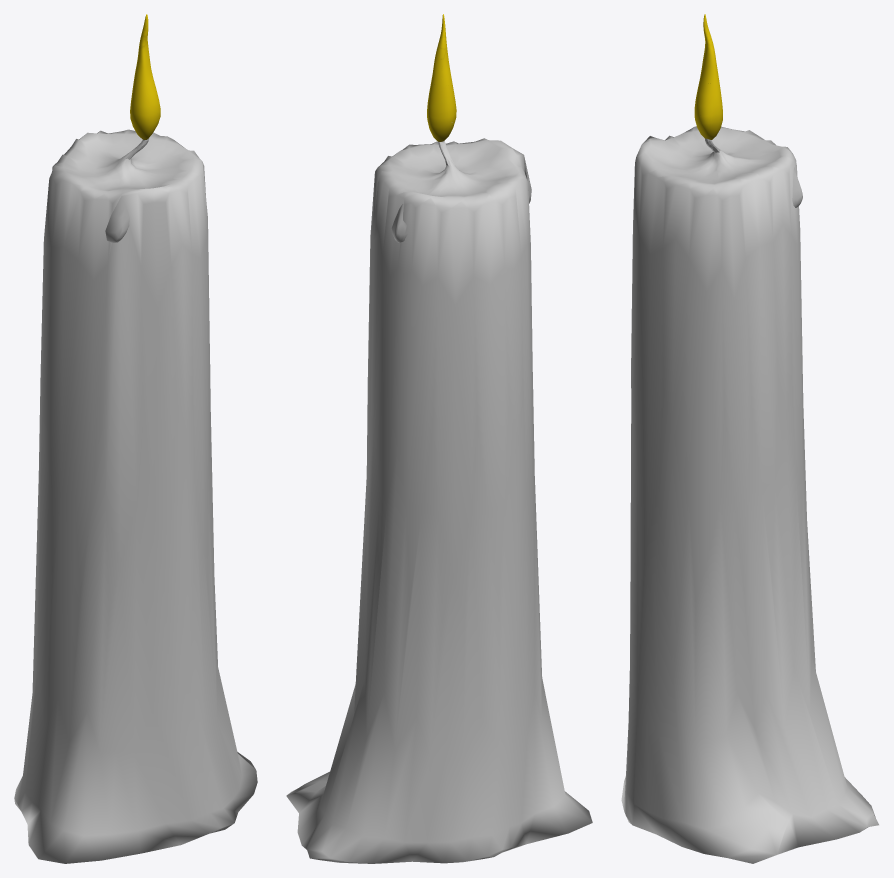
The model's file is Candle.fbx.
3 renders of one model, left to right at view 1: azimuth 30°, elevation 25°; view 2: azimuth 150°, elevation 25°; view 3: azimuth 270°, elevation 25°, orthographic.
Parts seen in each view (by area): view 1: Candle, CandleFire; view 2: Candle, CandleFire; view 3: Candle, CandleFire.
Boxes of the visible parts, x1=… form: Candle: x1=14, y1=129, x2=257, y2=863; CandleFire: x1=130, y1=14, x2=160, y2=139; Candle: x1=286, y1=122, x2=592, y2=863; CandleFire: x1=427, y1=14, x2=456, y2=141; Candle: x1=621, y1=126, x2=878, y2=863; CandleFire: x1=694, y1=14, x2=722, y2=139.
Bounding box in the file's own units: 3.16 × 9.34 × 2.76.
